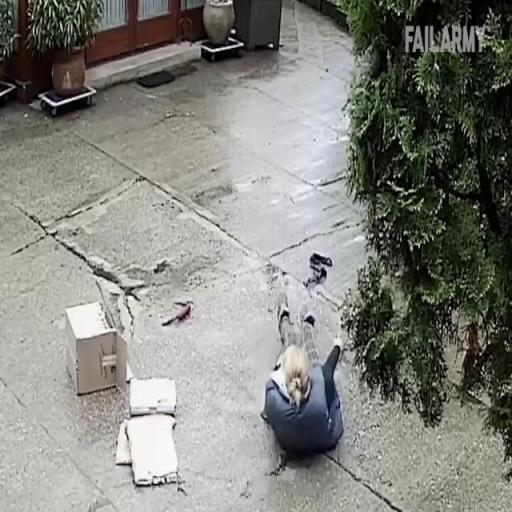Fall: (262, 289, 344, 466)
